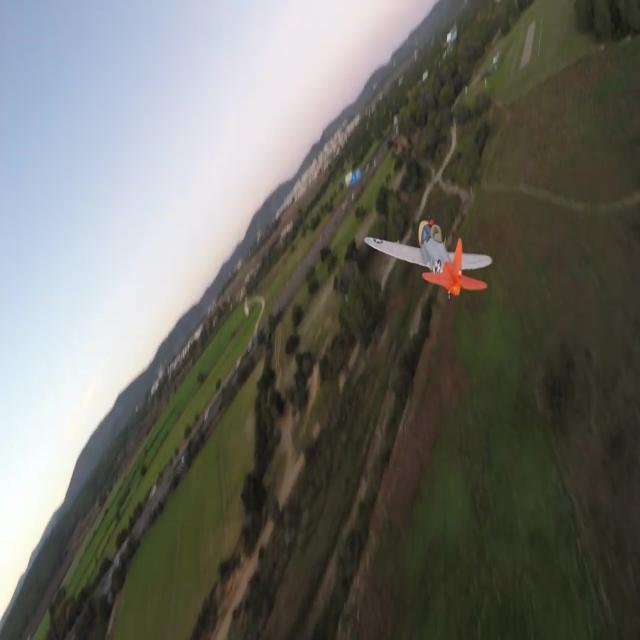iha: (364, 248, 493, 270)
